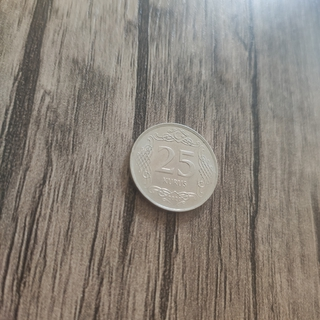25KURUS: (126, 121, 220, 214)
